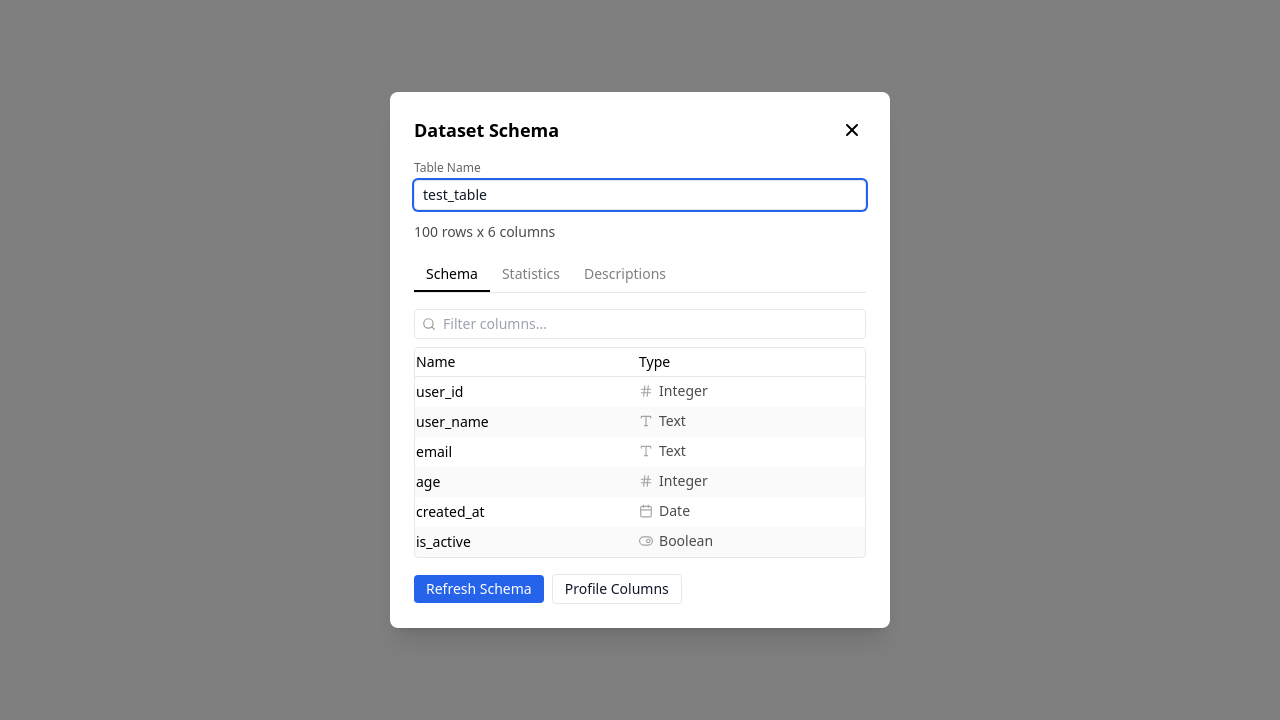
Test case: SM-SEARCH-3: Filters columns by name › filters columns when search term is entered
Type "user" into the field with test id "schema-column-search" at (640, 324), box x1=414 y1=309 x2=866 y2=339
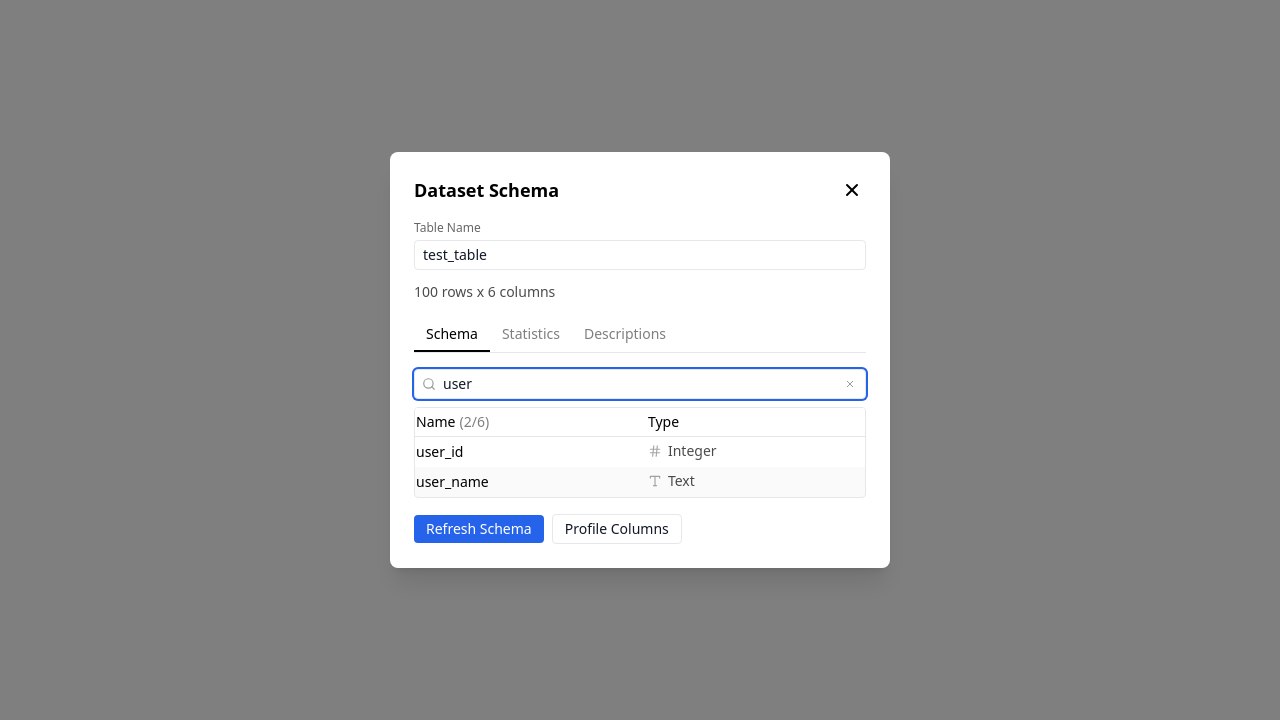
expect the text "email" is gone: met
expect the text "age" is gone: met
expect the text "created_at" is gone: met
